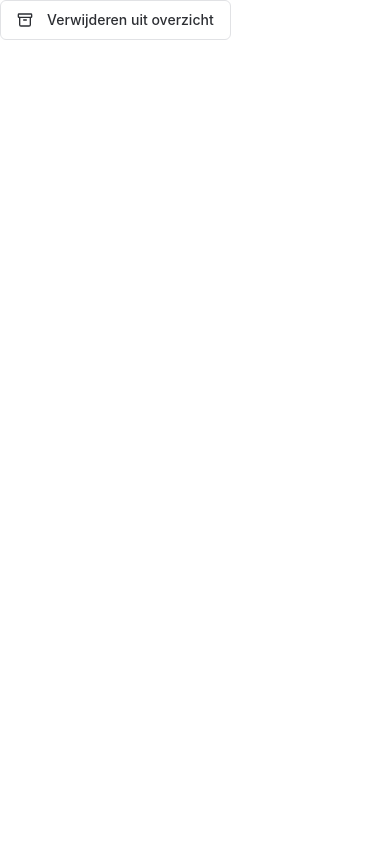
Test: ArchiveProjectAction › bevestigen archiveert; bij fout blijft dialoog open met melding
Click the button "Verwijderen uit overzicht". click: x=115, y=20
box: [0,0,231,40]
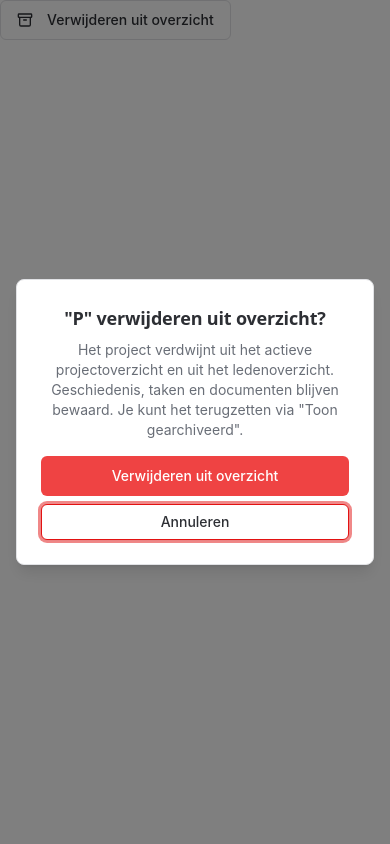
Click the button "Verwijderen uit overzicht". click: x=195, y=476
box: [41,456,349,496]
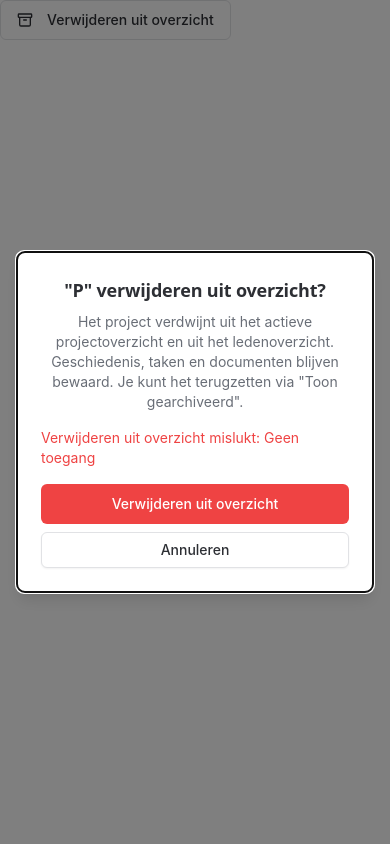
Check: the dialog is shown, box [16,251,374,593]
Check: the message shows "Geen toegang", box [41,429,299,466]
